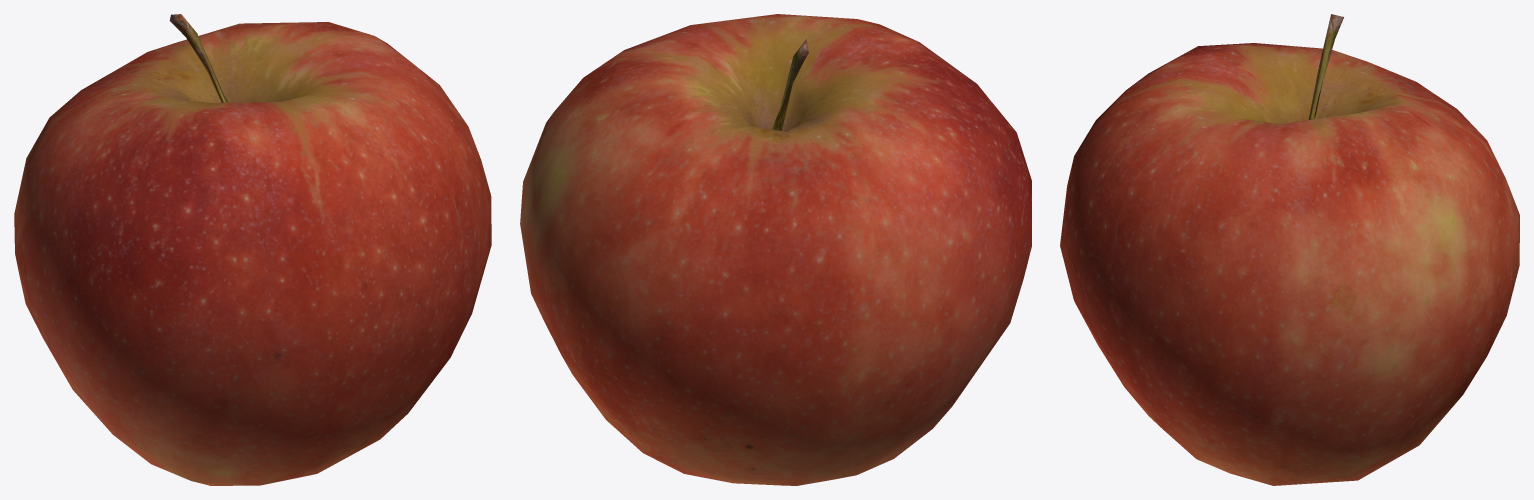
File: apple_low_2k.obj
3 views of the same model, side by side, from view 1: azimuth 30°, elevation 25°; view 2: azimuth 150°, elevation 25°; view 3: azimuth 270°, elevation 25° (orthographic). The views are drawn at different scales.
Parts seen in each view (by area): view 1: apple_low_2k; view 2: apple_low_2k; view 3: apple_low_2k.
Part boxes in pixels (box(x1,y1,x2,y2)): apple_low_2k: box(14, 14, 491, 485); apple_low_2k: box(520, 14, 1031, 485); apple_low_2k: box(1060, 14, 1519, 485).
Size of the model in its own units: 0.1138 by 0.1122 by 0.1129.
Materials: 1 (1 with a texture image).
